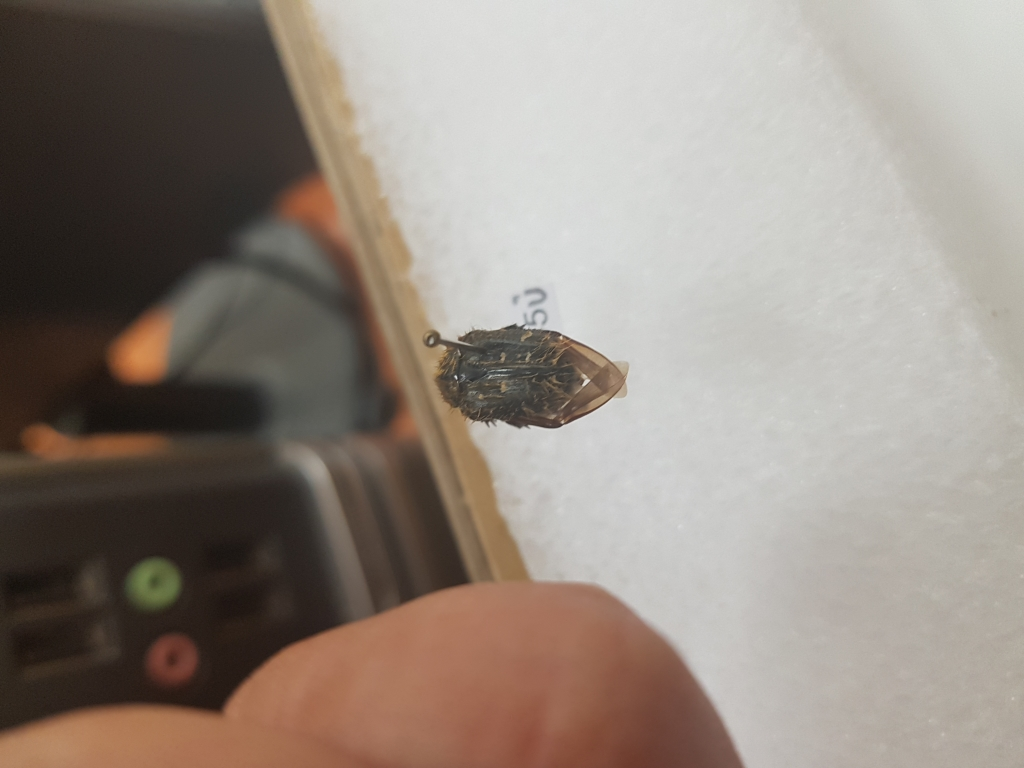Tropinota_hirta: (435, 318, 657, 433)
